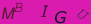B: (14, 2, 24, 13)
G: (54, 10, 68, 24)
I: (41, 4, 49, 18)
M: (1, 6, 16, 21)
U: (76, 8, 90, 20)
